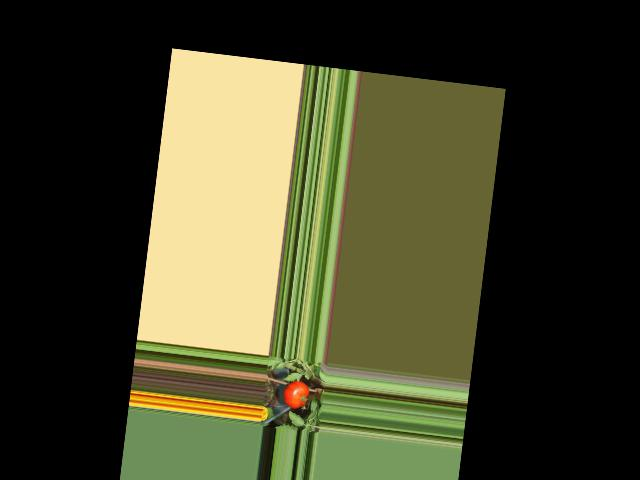tomato: (282, 378, 310, 410)
